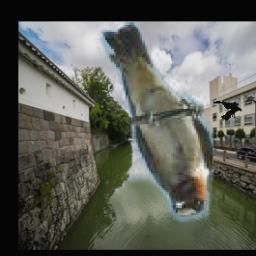Crow: (213, 101, 242, 121)
Swallow: (98, 22, 214, 222)
